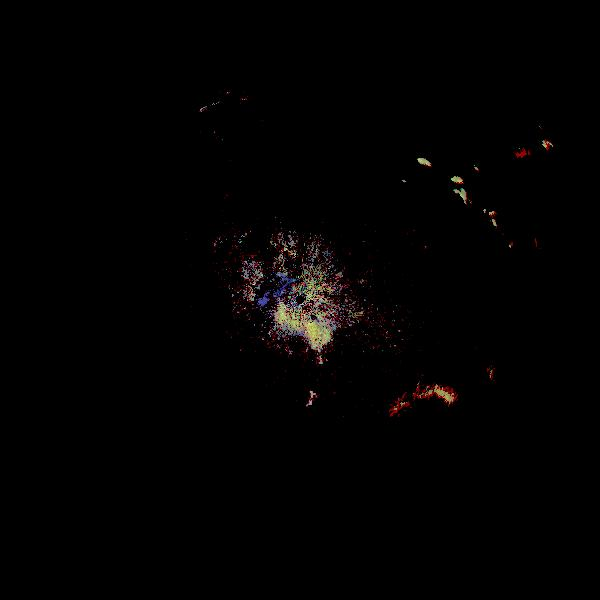roost: (363, 368, 507, 512), (230, 310, 353, 433)
